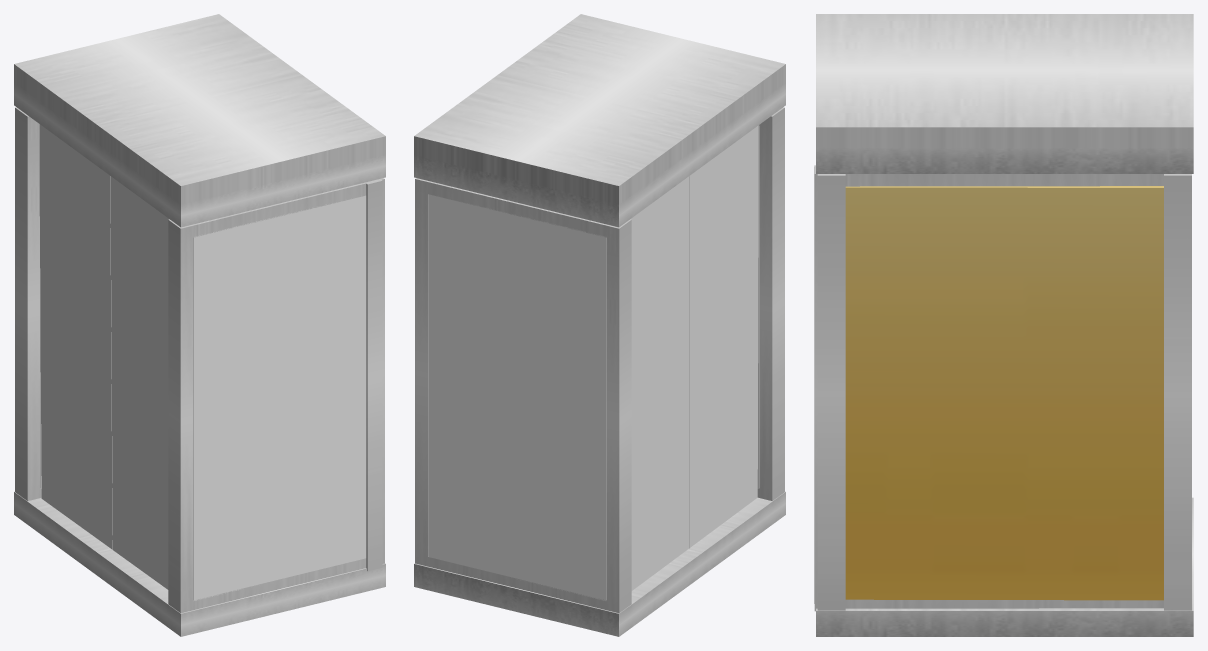
The model's file is morris.gltf.
3 views of the same model, side by side, from view 1: azimuth 30°, elevation 25°; view 2: azimuth 150°, elevation 25°; view 3: azimuth 270°, elevation 25° (orthographic). The views are drawn at different scales.
Visible parts, largest first — view 1: walls, ceiling, doorLeft, wallframe, doorRight, floor, backside-frame; view 2: walls, ceiling, wallframe, doorRight, doorLeft, floor; view 3: backside-wall, ceiling, wallframe, floor, backside-frame.
Part boxes in pixels (x1=…): walls: x1=40, y1=195, x2=366, y2=600; ceiling: x1=14, y1=14, x2=385, y2=227; doorLeft: x1=39, y1=124, x2=112, y2=549; wallframe: x1=15, y1=107, x2=384, y2=613; doorRight: x1=110, y1=176, x2=169, y2=589; floor: x1=14, y1=491, x2=385, y2=636; backside-frame: x1=366, y1=180, x2=382, y2=571; walls: x1=428, y1=125, x2=759, y2=600; ceiling: x1=414, y1=14, x2=785, y2=227; wallframe: x1=415, y1=107, x2=784, y2=613; doorRight: x1=689, y1=125, x2=758, y2=548; doorLeft: x1=630, y1=176, x2=688, y2=590; floor: x1=414, y1=491, x2=785, y2=636; backside-wall: x1=845, y1=186, x2=1163, y2=600; ceiling: x1=816, y1=14, x2=1193, y2=173; wallframe: x1=817, y1=174, x2=1191, y2=610; floor: x1=816, y1=497, x2=1193, y2=636; backside-frame: x1=814, y1=165, x2=1163, y2=611.
Size of the model in its own units: 2.96 by 6.21 by 4.18.
7 materials, 5 textured.
